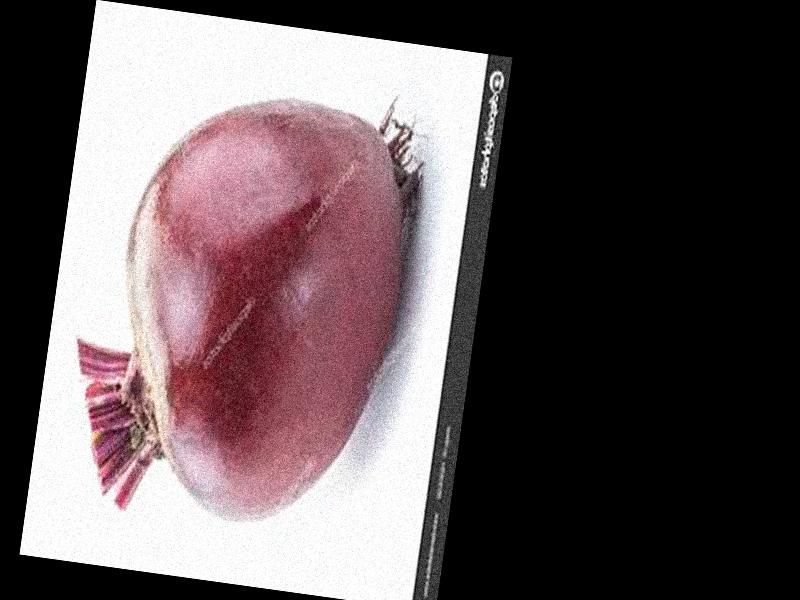Beet: (59, 76, 425, 540)
